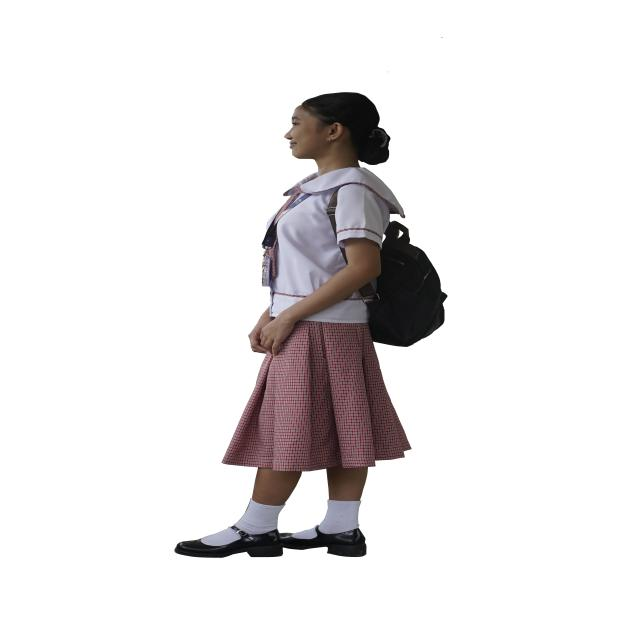pologirl: (270, 168, 403, 316), (307, 290, 372, 323)
shoes: (175, 526, 366, 558)
skirt: (222, 321, 410, 472)
